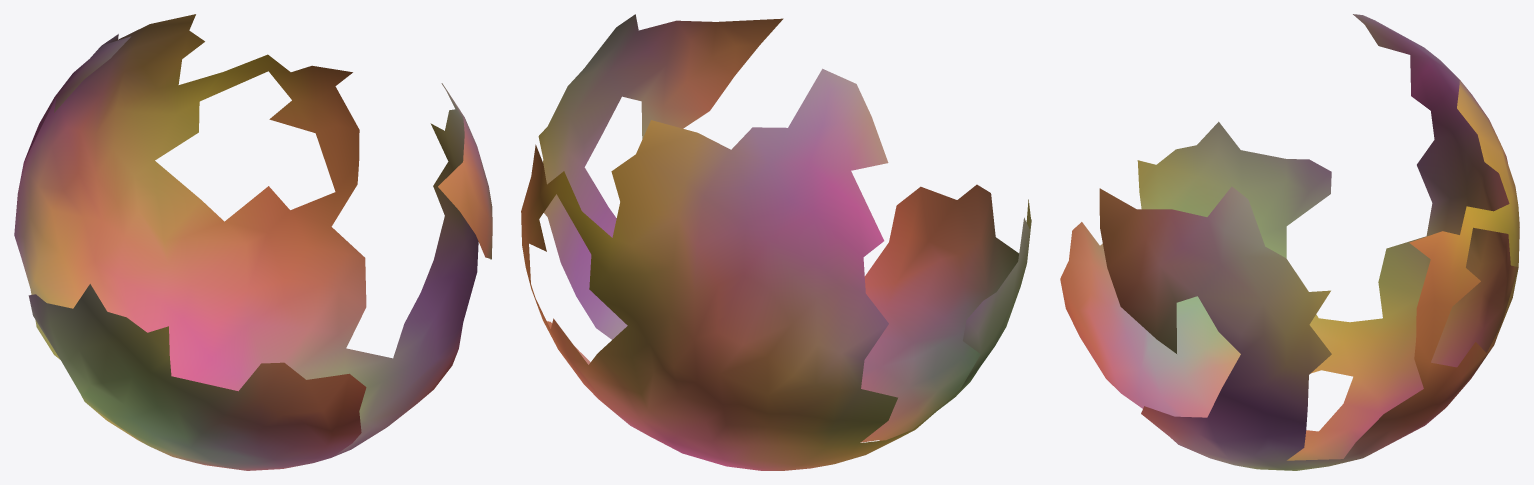
Rendered from space-nebulae-nebula_v39.glb.
3 views of the same model, side by side, from view 1: azimuth 30°, elevation 25°; view 2: azimuth 150°, elevation 25°; view 3: azimuth 270°, elevation 25° (orthographic). The views are drawn at different scales.
Visible parts, largest first — view 1: Nebula_v39; view 2: Nebula_v39; view 3: Nebula_v39.
Part boxes in pixels (<box>): Nebula_v39: <box>14,14,492,470</box>; Nebula_v39: <box>521,14,1031,470</box>; Nebula_v39: <box>1060,14,1519,470</box>.
Bounding box in the file's own units: 0.5 × 0.4653 × 0.4913.
